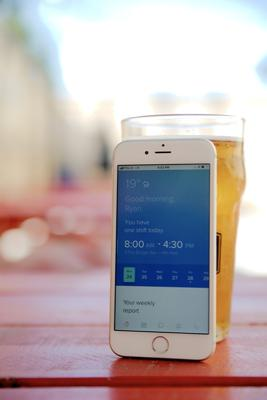cell-phone: (107, 136, 217, 364)
